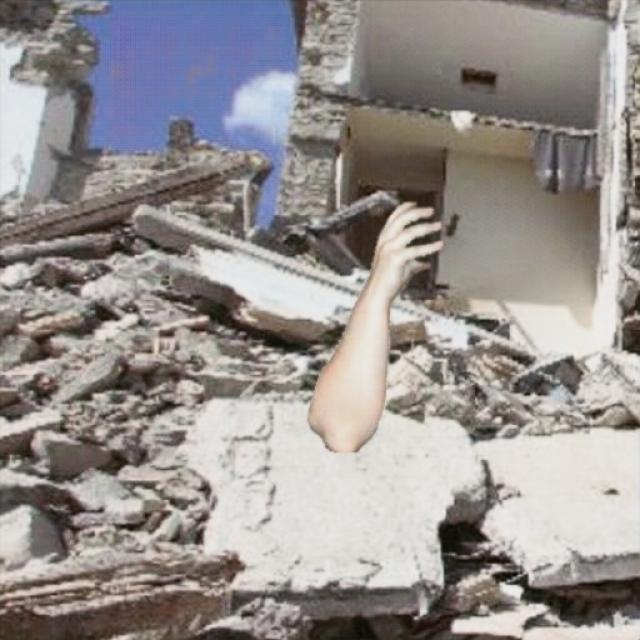Person in Rubble: (308, 203, 442, 452)
